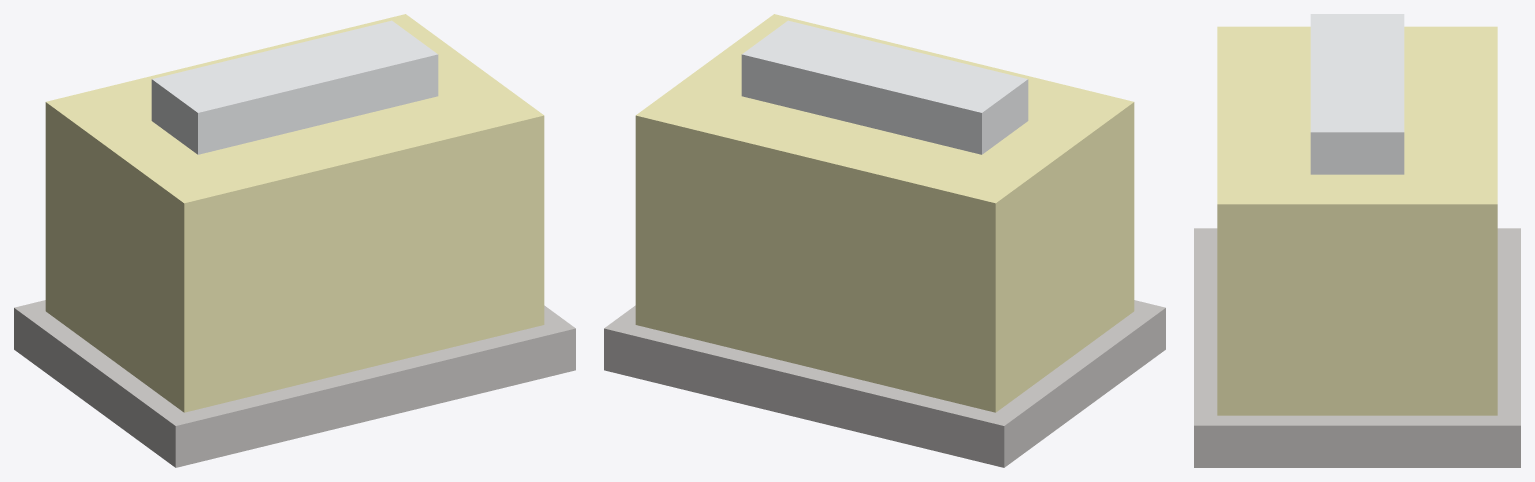
File: parametric-source.glb
3 views of the same model, side by side, from view 1: azimuth 30°, elevation 25°; view 2: azimuth 150°, elevation 25°; view 3: azimuth 270°, elevation 25° (orthographic).
Parts seen in each view (by area): view 1: openclinxr.equipment.tissue_box_equipment.box, openclinxr.equipment.tissue_box_equipment.base, openclinxr.equipment.tissue_box_equipment.slot; view 2: openclinxr.equipment.tissue_box_equipment.box, openclinxr.equipment.tissue_box_equipment.base, openclinxr.equipment.tissue_box_equipment.slot; view 3: openclinxr.equipment.tissue_box_equipment.box, openclinxr.equipment.tissue_box_equipment.base, openclinxr.equipment.tissue_box_equipment.slot.
Boxes of the visible parts, x1,y1,x2,y2 form: openclinxr.equipment.tissue_box_equipment.box: (45,14,544,412); openclinxr.equipment.tissue_box_equipment.base: (14,300,575,467); openclinxr.equipment.tissue_box_equipment.slot: (151,20,438,154); openclinxr.equipment.tissue_box_equipment.box: (635,14,1134,412); openclinxr.equipment.tissue_box_equipment.base: (604,300,1165,467); openclinxr.equipment.tissue_box_equipment.slot: (741,20,1028,154); openclinxr.equipment.tissue_box_equipment.box: (1217,26,1497,415); openclinxr.equipment.tissue_box_equipment.base: (1194,228,1520,467); openclinxr.equipment.tissue_box_equipment.slot: (1310,14,1404,174).
Bounding box in the file's own units: 0.2 × 0.14 × 0.14.
